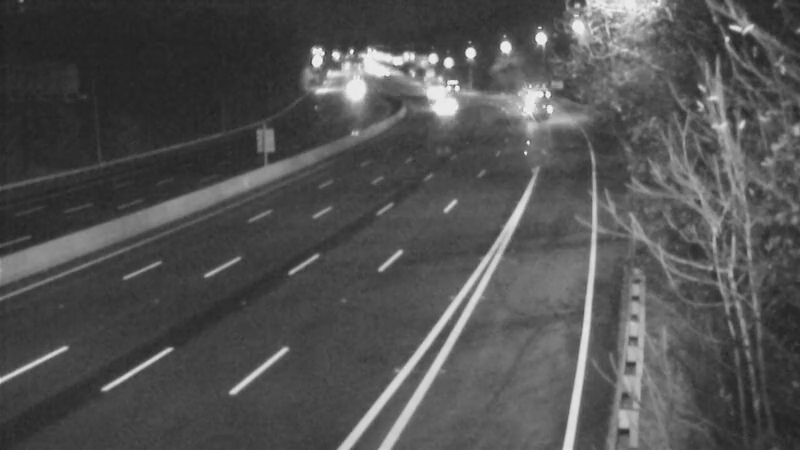vehicle: (425, 62, 475, 112), (412, 64, 462, 114), (498, 70, 548, 120), (419, 80, 469, 130), (326, 57, 376, 107)
